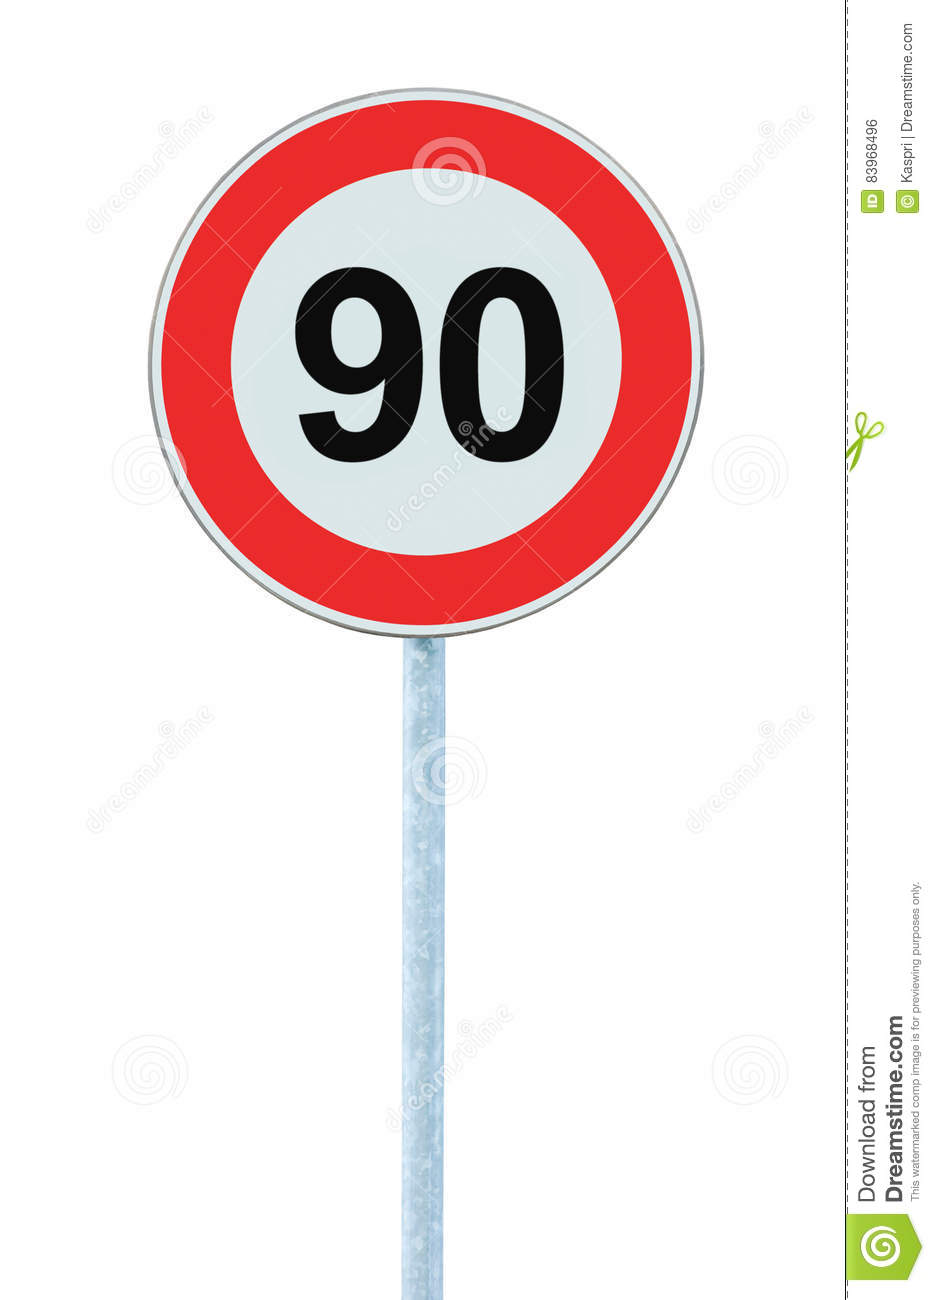Speed_limit_90km: (147, 89, 690, 637)
